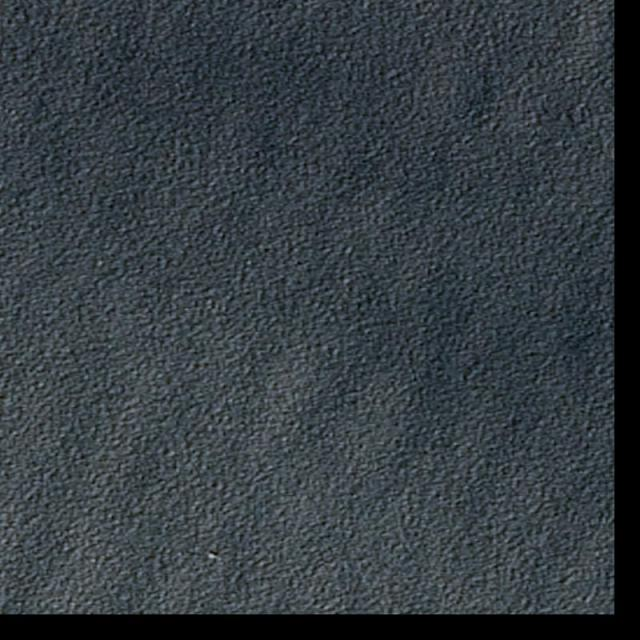ship: (208, 554, 219, 560)
